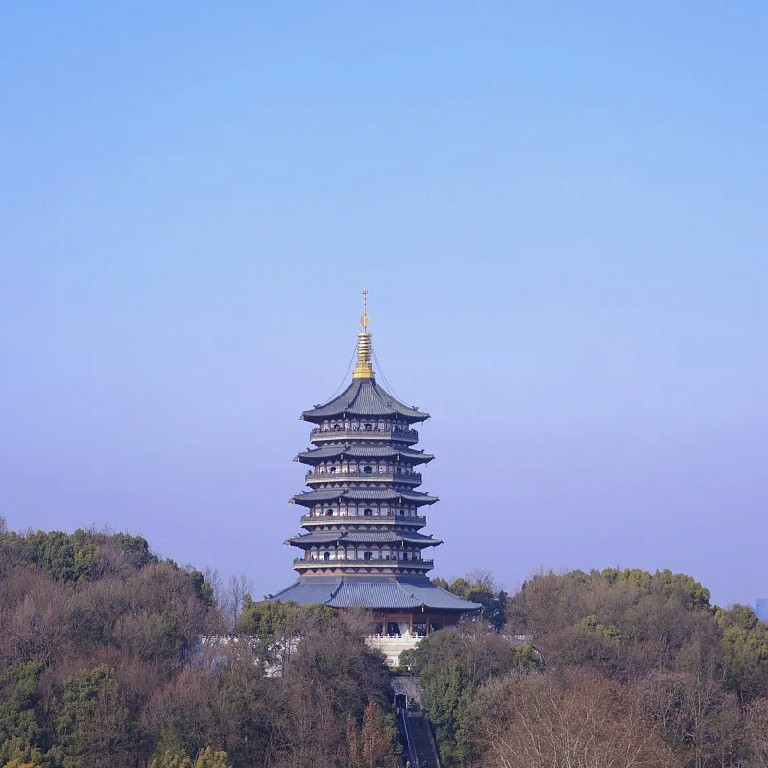Leifeng: (246, 285, 489, 638)
